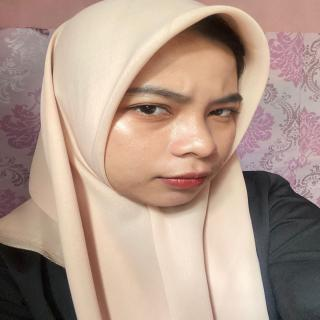Marah: (99, 19, 247, 213)
